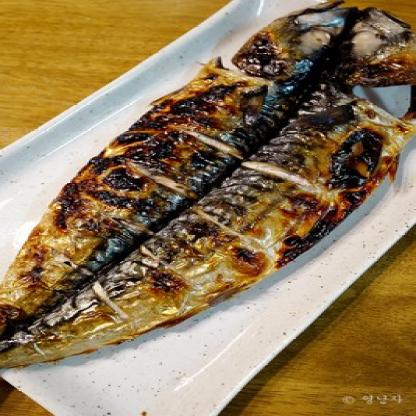Peixe: (0, 0, 416, 404)
